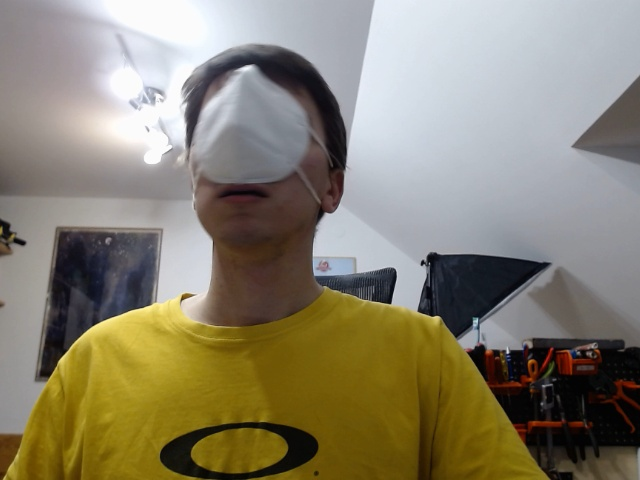WrongMask: (180, 40, 352, 269)
